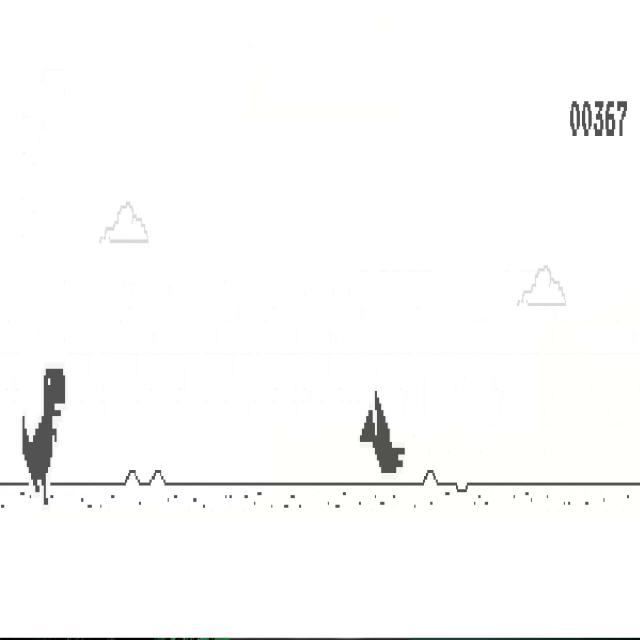dino: (21, 368, 66, 507)
ptero: (359, 388, 405, 475)
